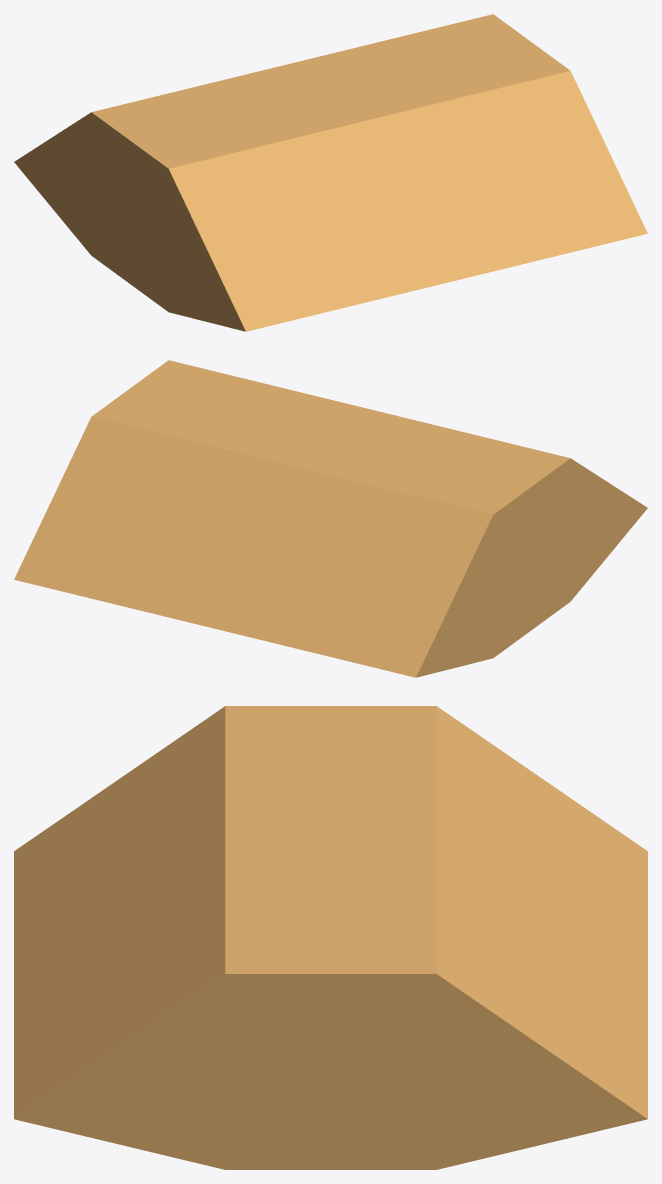
Rendered from Rampa004.fbx.
The picture shows the model from 3 angles, top to bottom: view 1: azimuth 30°, elevation 25°; view 2: azimuth 150°, elevation 25°; view 3: azimuth 270°, elevation 25°; orthographic projection. The views are drawn at different scales.
Parts seen in each view (by area): view 1: Cube; view 2: Cube; view 3: Cube.
Part boxes in pixels (x1=…): Cube: x1=14, y1=14, x2=647, y2=331; Cube: x1=14, y1=360, x2=647, y2=677; Cube: x1=14, y1=706, x2=647, y2=1169.
Bounding box in the file's own units: 200 × 68.22 × 200.
